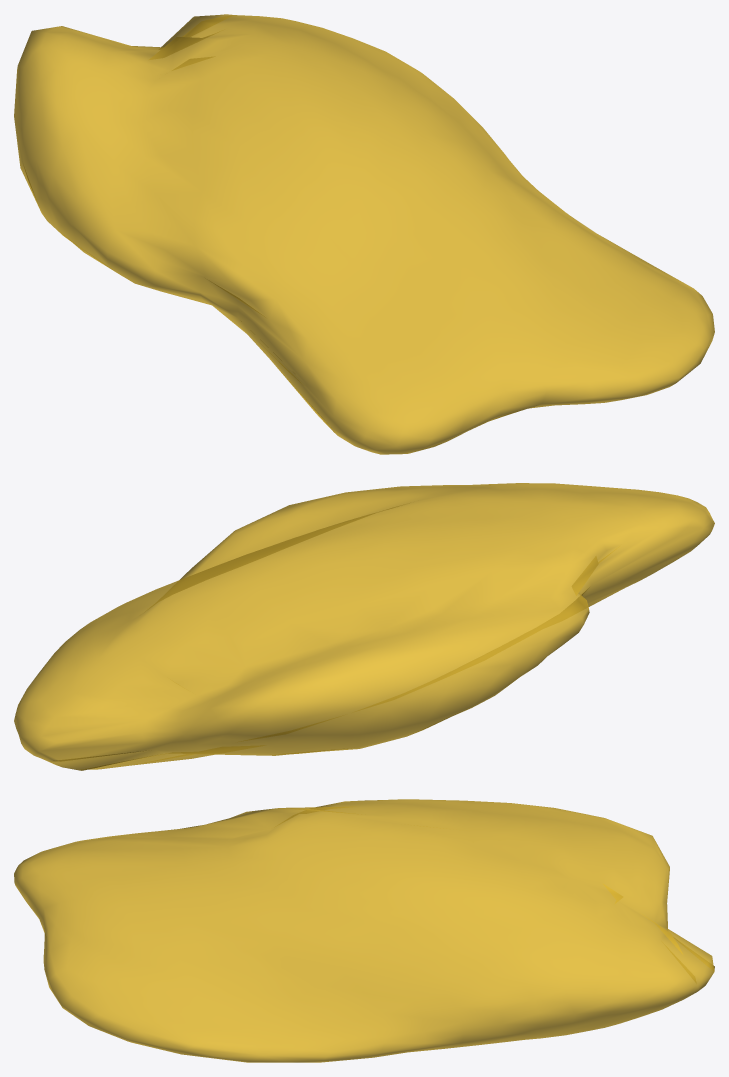
The model's file is beategg2.fbx.
The picture shows the model from 3 angles, top to bottom: view 1: azimuth 30°, elevation 25°; view 2: azimuth 150°, elevation 25°; view 3: azimuth 270°, elevation 25°; orthographic projection. The views are drawn at different scales.
Parts seen in each view (by area): view 1: Eggwhite; view 2: Eggwhite; view 3: Eggwhite.
Boxes of the visible parts, box(x1,y1,x2,y2) form: Eggwhite: box(14, 14, 714, 454); Eggwhite: box(14, 483, 714, 770); Eggwhite: box(14, 799, 714, 1062).
Size of the model in its own units: 38.84 by 13.58 by 64.17.
